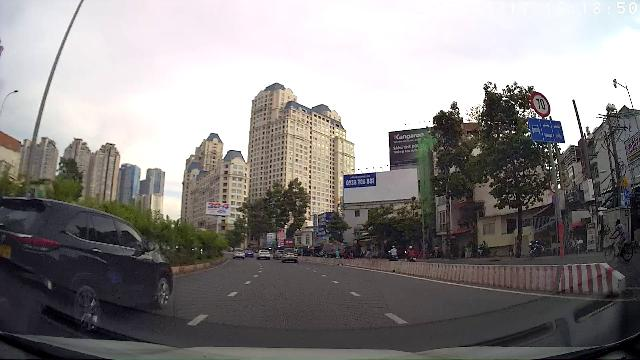127-toc-do-toi-da-70: (530, 92, 551, 117)
